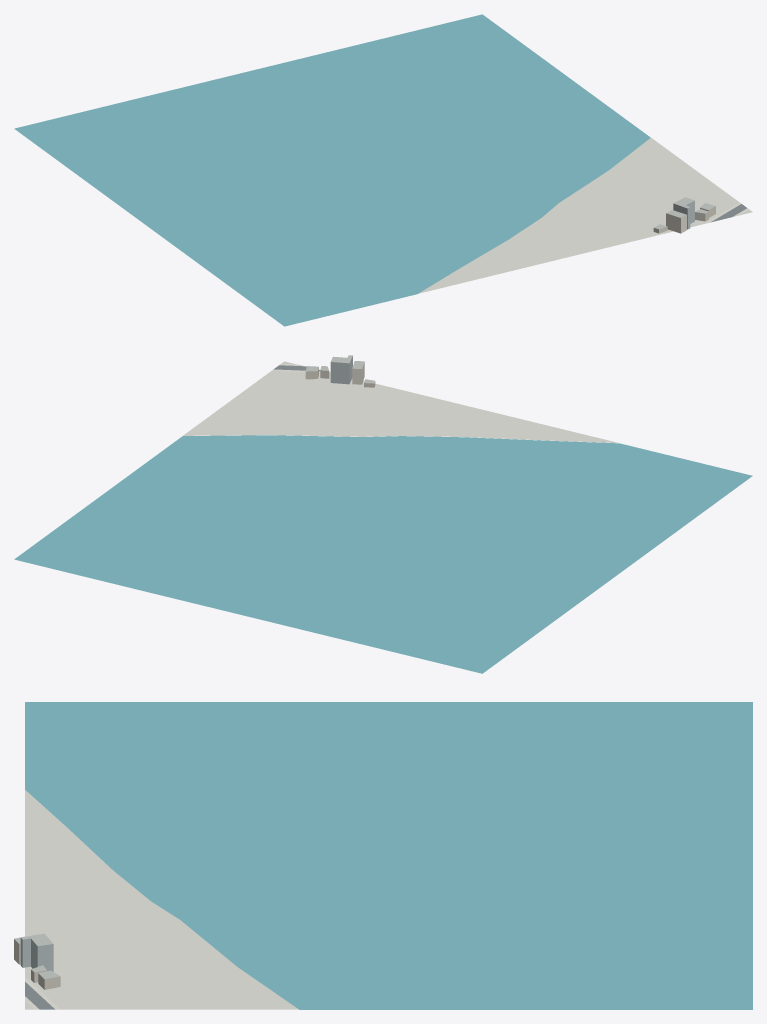
3 views of the same model, one above another, from view 1: azimuth 30°, elevation 25°; view 2: azimuth 150°, elevation 25°; view 3: azimuth 270°, elevation 25° (orthographic). The views are drawn at different scales.
Visible parts, largest first — view 1: city; view 2: city; view 3: city.
Boxes of the visible parts, box(x1,y1,x2,y2) form: city: box(14, 14, 752, 326); city: box(14, 355, 752, 673); city: box(14, 702, 752, 1009).
Size of the model in its own units: 500 by 21.68 by 507.
